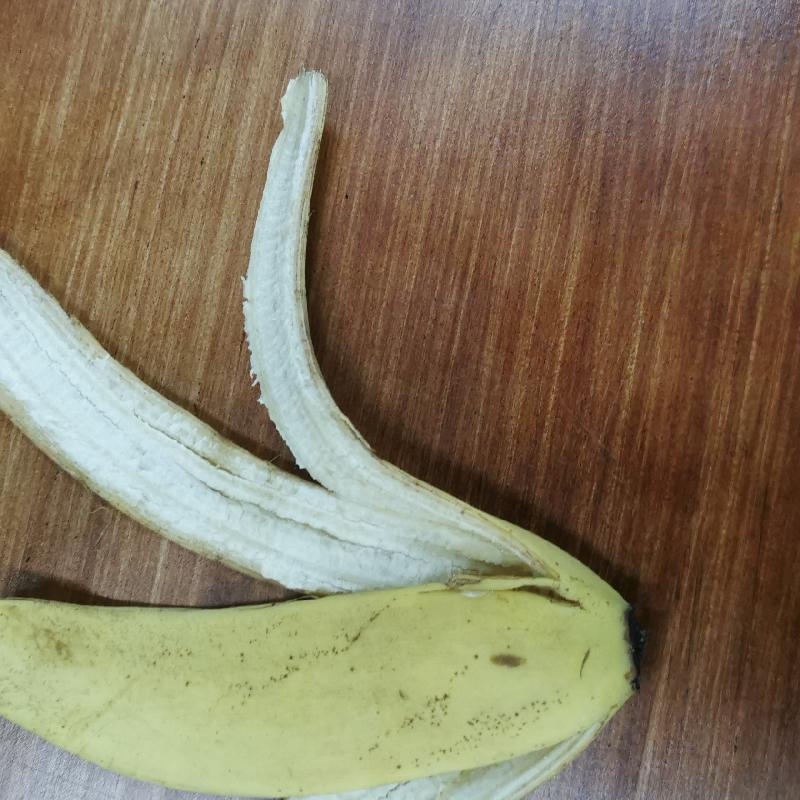bananas: (4, 52, 644, 797)
